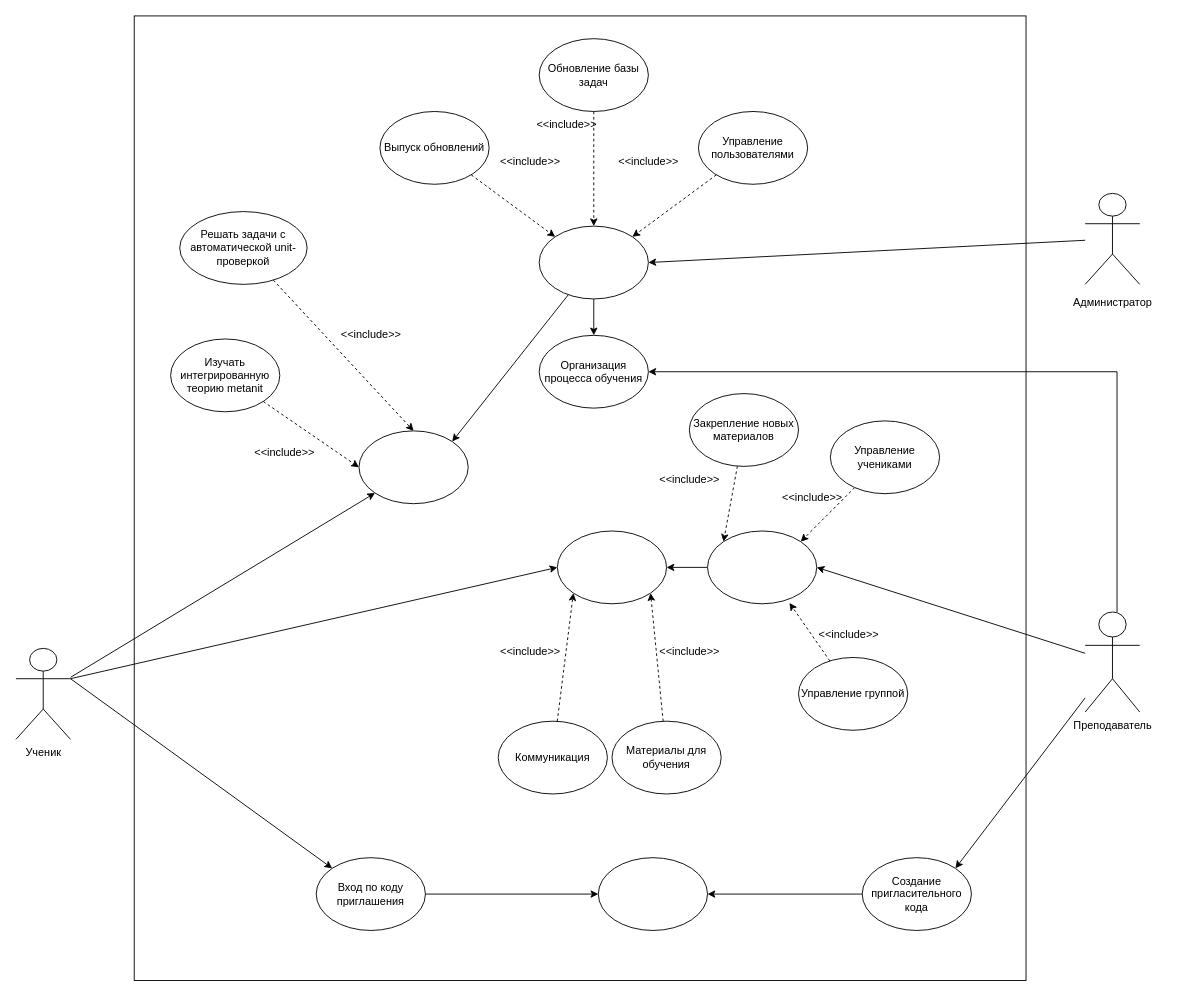
This 1178x996 diagram has some shape labels left out. The shapes that lost their labels are listed below. From the top down, each one's centre as x and y in pixels, then its label:
At point (593, 262): "Поддержка приложения".
At point (413, 467): "Изучение языка программирорвания C#".
At point (611, 567): "Изучение языка программирования C# в группе".
At point (762, 567): "Ведение группы".
At point (652, 893): "Вступление в группу".
